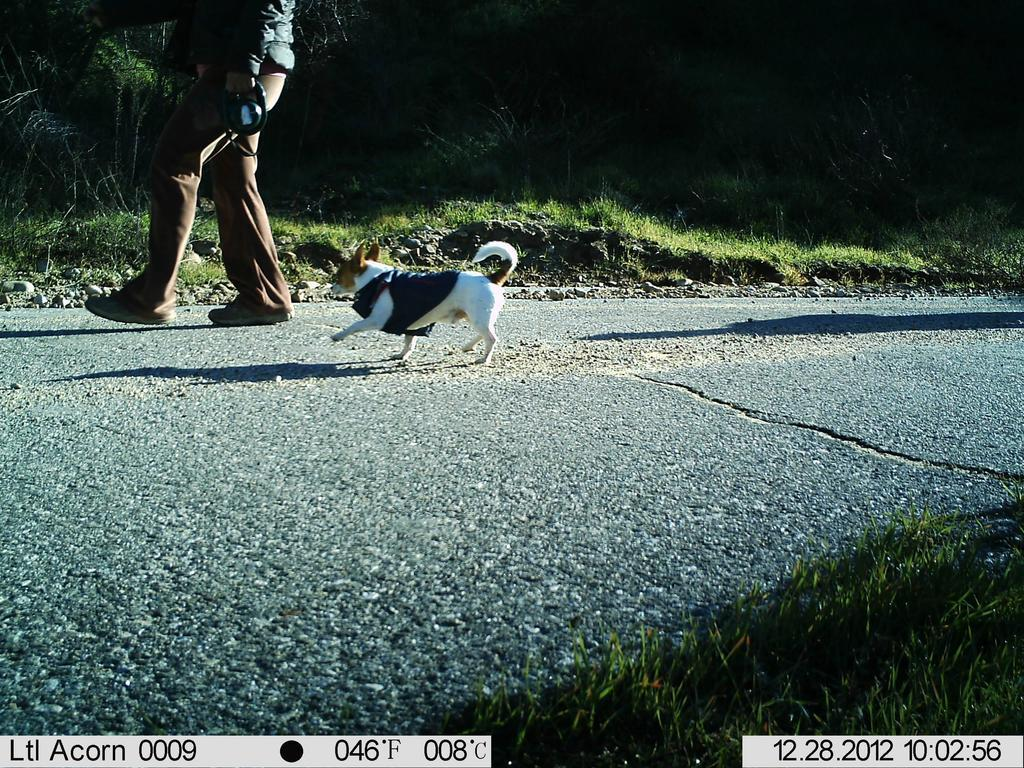dog: (317, 235, 537, 373)
